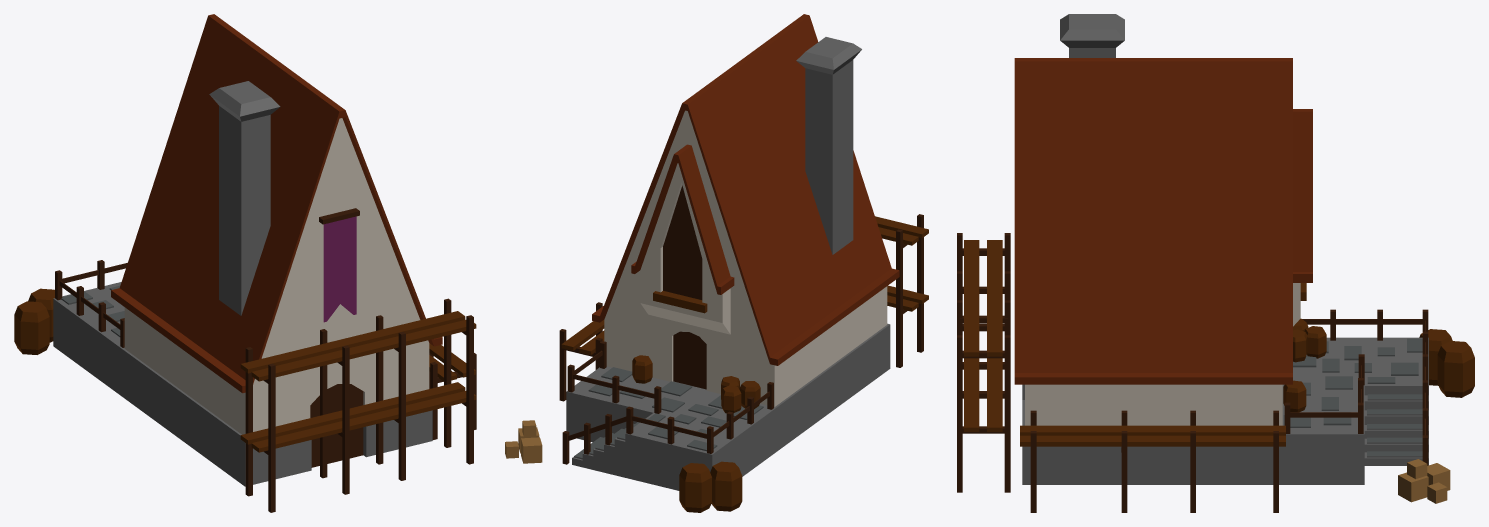
File: TavernBuildPhase3v2.fbx
The picture shows the model from 3 angles, left to right: view 1: azimuth 30°, elevation 25°; view 2: azimuth 150°, elevation 25°; view 3: azimuth 270°, elevation 25°; orthographic projection. The views are drawn at different scales.
Visible parts, largest first — view 1: Plane.862; view 2: Plane.862; view 3: Plane.862.
Boxes of the visible parts, x1,y1,x2,y2 form: Plane.862: (14, 14, 476, 512); Plane.862: (505, 14, 928, 512); Plane.862: (957, 14, 1474, 512).
Bounding box in the file's own units: 126 × 164 × 199.
